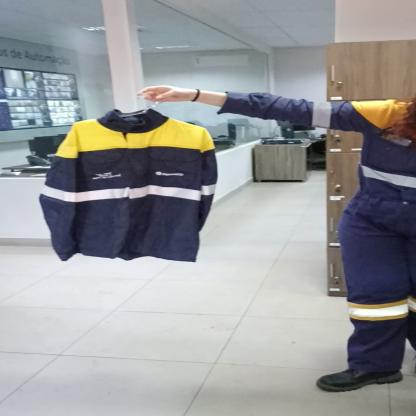C_eletrica: (40, 113, 220, 265)
